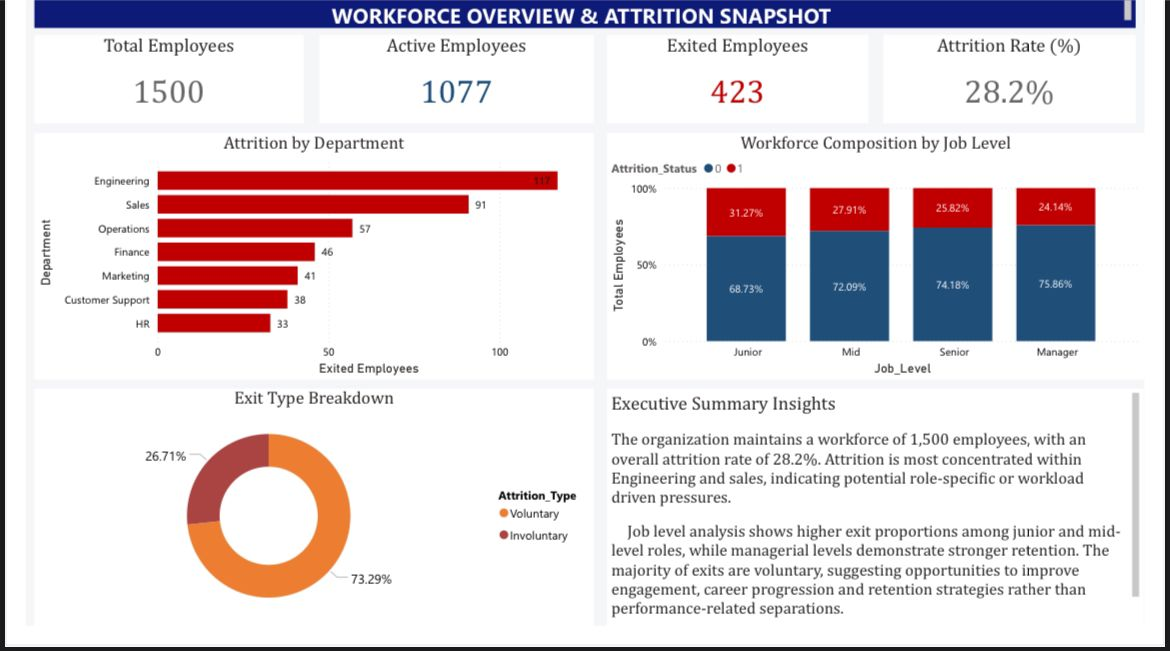

The page's visual inventory and layout, read from the dashboard file:
{"tool":"powerbi","page":{"name":"HR Executive Overview","canvas":[1280,720],"ordinal":0},"visuals":[{"type":"textbox","box":[9.7,0,1260.7,37.4],"z":0},{"type":"card","title":"Total Employees","fields":{"Values":["HR_Analytics_Attrition_Retention.Total Employees"]},"box":[9.5,45.2,308.3,101.2],"z":1},{"type":"card","title":"Active Employees","fields":{"Values":["HR_Analytics_Attrition_Retention.Active Employees"]},"box":[335.7,45.2,314.3,101.2],"z":2},{"type":"card","title":"Exited Employees","fields":{"Values":["HR_Analytics_Attrition_Retention.Exited Employees"]},"box":[665.5,45.2,298.8,101.2],"z":3},{"type":"card","title":"Attrition Rate (%)","fields":{"Values":["HR_Analytics_Attrition_Retention.Attrition Rate (%)"]},"box":[981,45.2,289.3,101.2],"z":4},{"type":"barChart","title":"Attrition by Department","fields":{"Category":["HR_Analytics_Attrition_Retention.Department"],"Y":["HR_Analytics_Attrition_Retention.Exited Employees"]},"box":[9.5,157.1,640.5,282.1],"z":5},{"type":"hundredPercentStackedColumnChart","title":"Workforce Composition by Job Level","fields":{"Category":["HR_Analytics_Attrition_Retention.Job_Level"],"Y":["HR_Analytics_Attrition_Retention.Total Employees"],"Series":["HR_Analytics_Attrition_Retention.Attrition_Status"]},"box":[665.5,157.1,614.3,282.1],"z":6},{"type":"donutChart","title":"Exit Type Breakdown","fields":{"Y":["HR_Analytics_Attrition_Retention.Exited Employees"],"Category":["HR_Analytics_Attrition_Retention.Attrition_Type"]},"box":[10,449,640,271],"z":7},{"type":"textbox","box":[665,449,614,271],"z":8}]}

Visuals, with their boxes in screenshot pixels (x1, y1, x2, y2), scaled from the page's 1280x720 canvas onto the 1170x651 screenshot:
textbox: locate(9, 0, 1161, 34)
"Total Employees" card: locate(9, 41, 290, 132)
"Active Employees" card: locate(307, 41, 594, 132)
"Exited Employees" card: locate(608, 41, 881, 132)
"Attrition Rate (%)" card: locate(897, 41, 1161, 132)
"Attrition by Department" barChart: locate(9, 142, 594, 397)
"Workforce Composition by Job Level" hundredPercentStackedColumnChart: locate(608, 142, 1169, 397)
"Exit Type Breakdown" donutChart: locate(9, 406, 594, 650)
textbox: locate(608, 406, 1169, 650)
